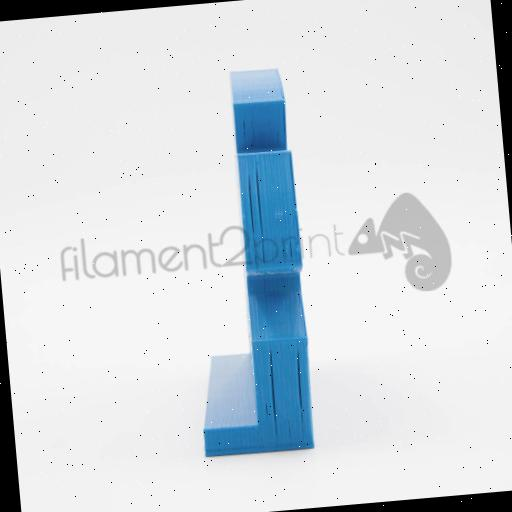cracks: (262, 338, 316, 461), (244, 158, 276, 246)
